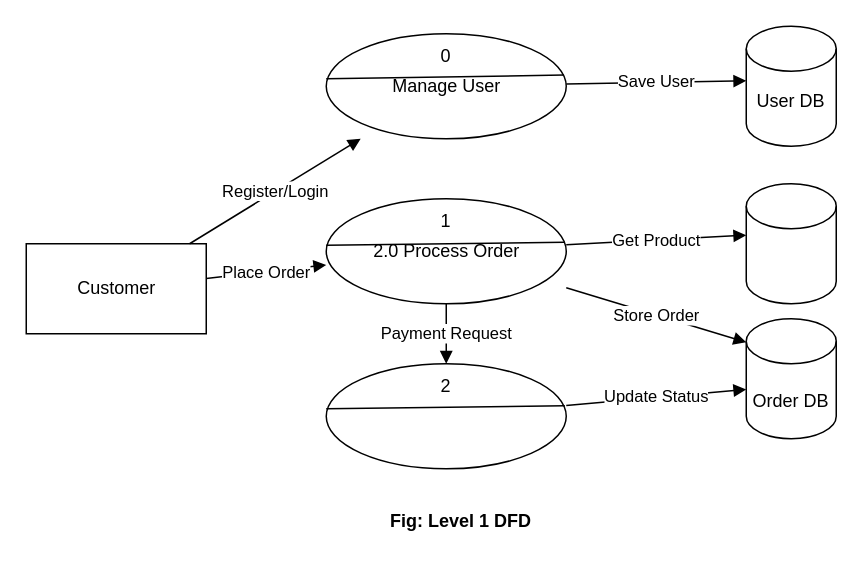
Some shapes in this 863 by 570 pixel diagram are drawn without their labels. Here are the shapes that lost their labels. From the top down, the box of each, then its label:
(745, 182, 836, 304): Product DB
(325, 362, 566, 469): 3.0 Handle Payment
